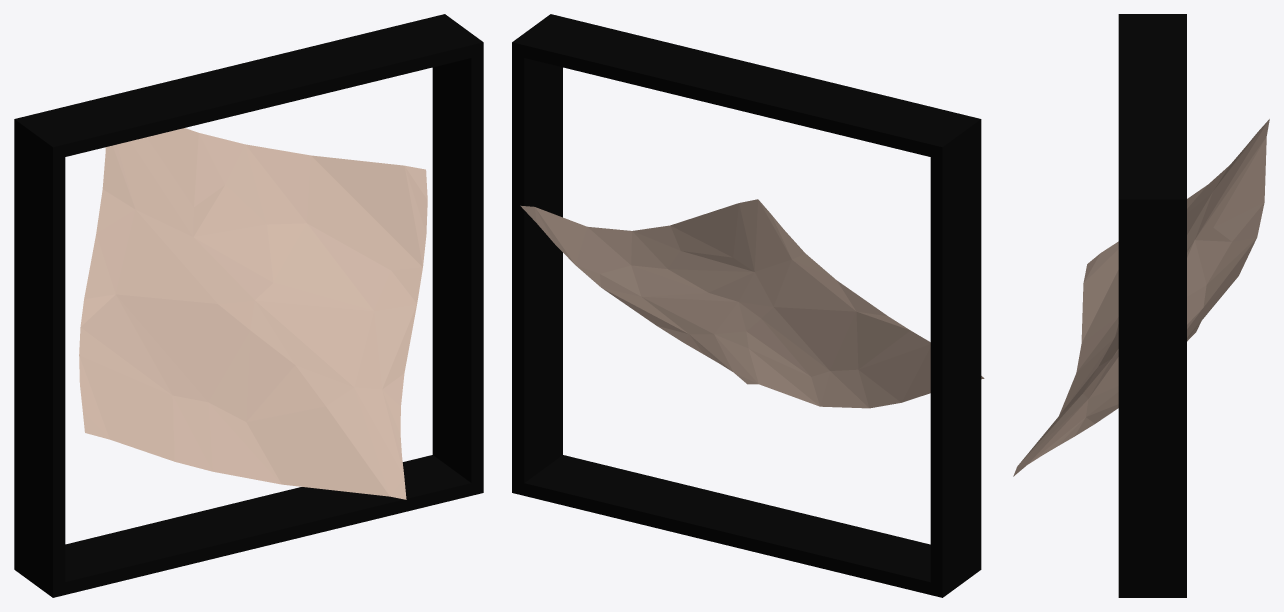
Rendered from HandleModel.glb.
3 views of the same model, side by side, from view 1: azimuth 30°, elevation 25°; view 2: azimuth 150°, elevation 25°; view 3: azimuth 270°, elevation 25° (orthographic). The views are drawn at different scales.
Parts seen in each view (by area): view 1: Plane; view 2: Plane; view 3: Plane.
Boxes of the visible parts, x1,y1,x2,y2 form: Plane: (14,14,483,597); Plane: (512,14,984,597); Plane: (1013,14,1269,597).
Size of the model in its own units: 0.0721 by 0.0721 by 0.0422.
